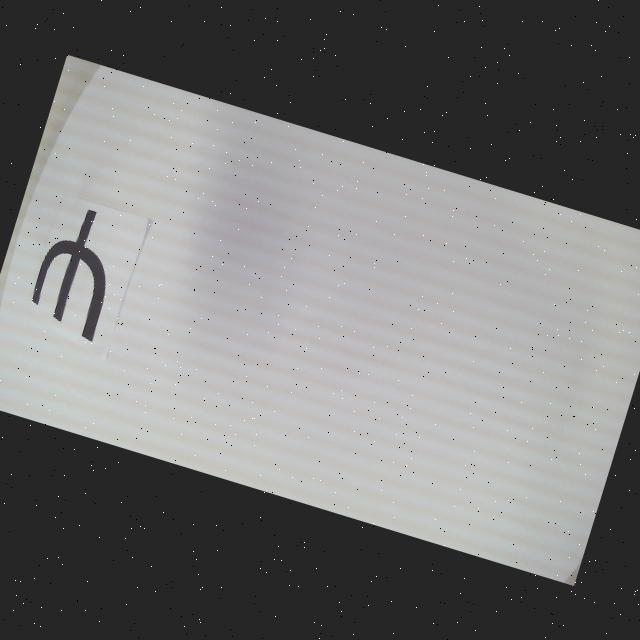PSI: (24, 199, 130, 342)
